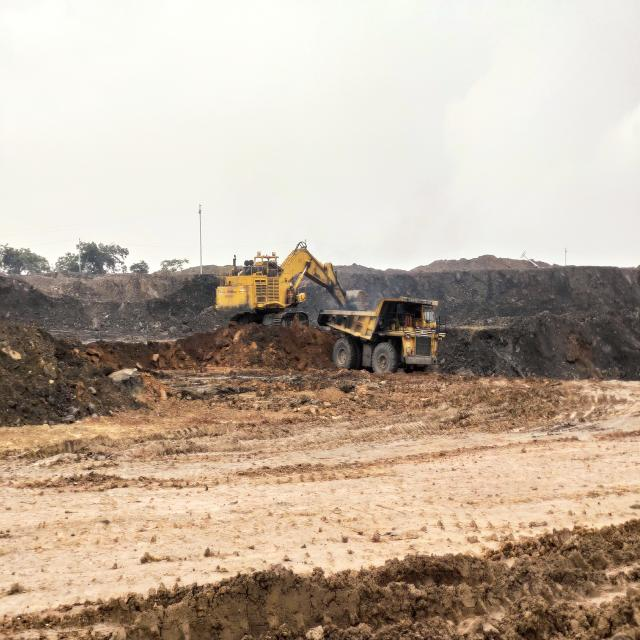dump_truck: (310, 300, 439, 373)
excavator: (216, 240, 339, 328)
